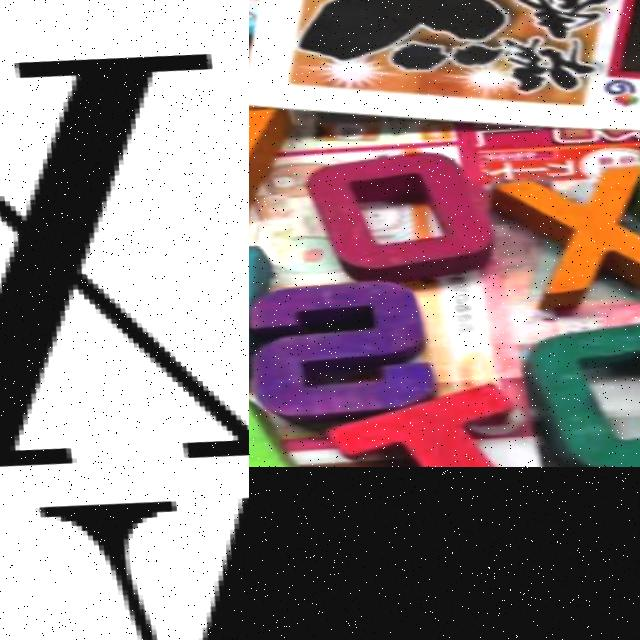D: (512, 295, 640, 467)
I: (317, 354, 632, 467)
N: (21, 467, 249, 640)
O: (307, 139, 494, 281)
R: (249, 79, 294, 221)
S: (249, 265, 428, 426)
X: (0, 9, 249, 467), (484, 151, 640, 311)
